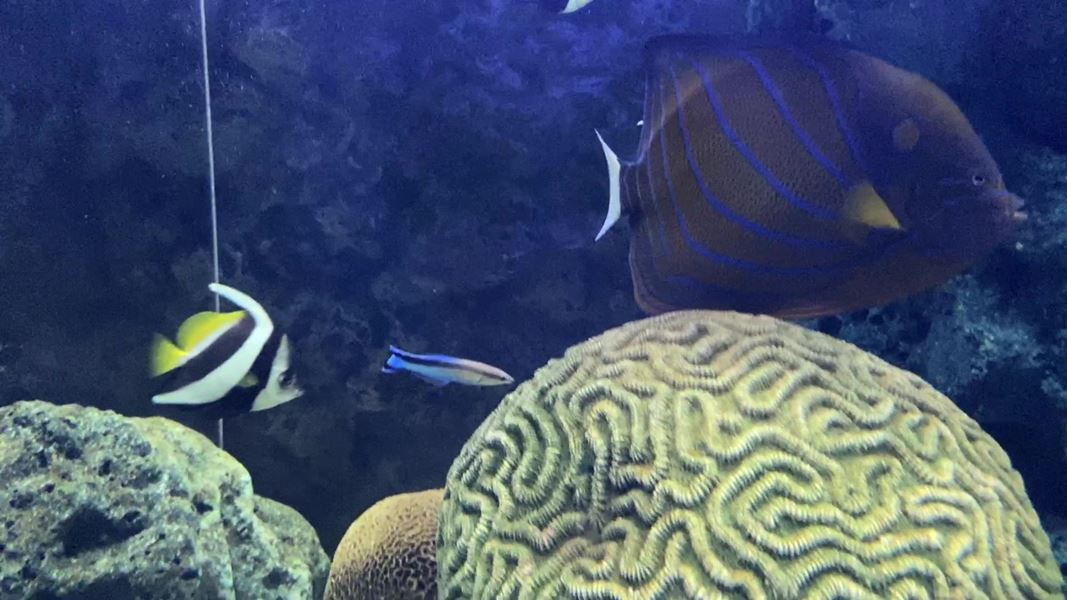Bluesteak cleaner wrasse: (366, 329, 519, 401)
